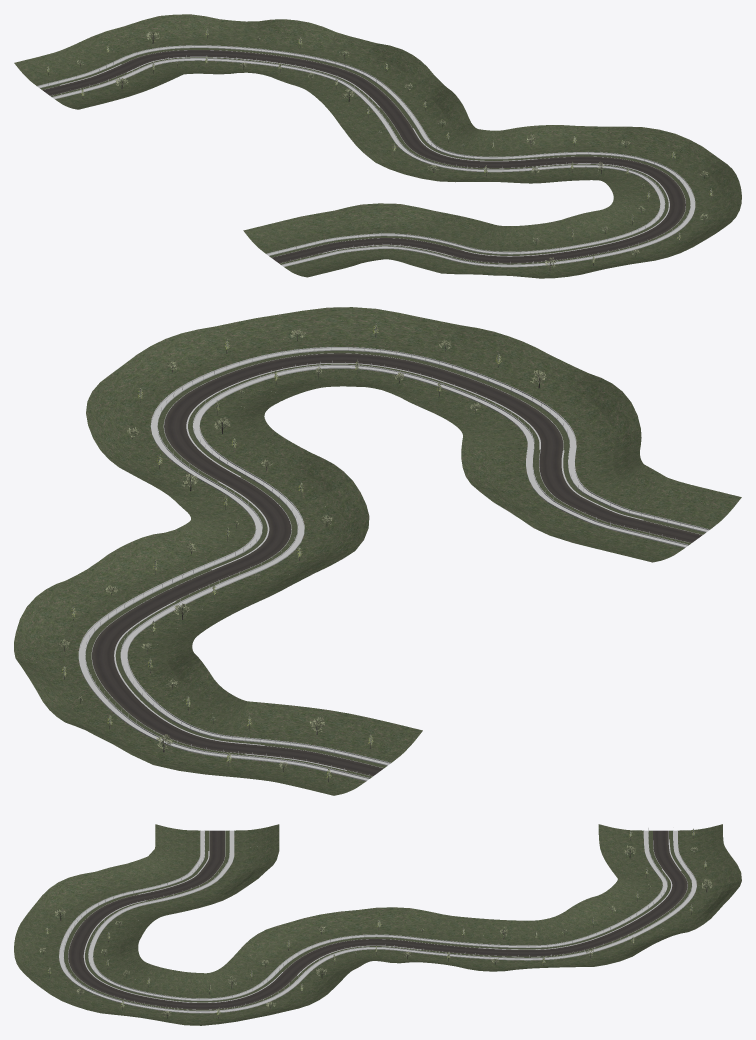
The picture shows the model from 3 angles, top to bottom: view 1: azimuth 30°, elevation 25°; view 2: azimuth 150°, elevation 25°; view 3: azimuth 270°, elevation 25°; orthographic projection. The views are drawn at different scales.
Parts seen in each view (by area): view 1: Grass, Road, Track, Trees, Curbs; view 2: Grass, Road, Track, Trees, Curbs; view 3: Grass, Road, Track, Trees, Curbs.
Part boxes in pixels (<box>): Grass: <box>14,14,741,278</box>; Road: <box>42,50,685,263</box>; Track: <box>37,45,695,267</box>; Trees: <box>47,28,712,270</box>; Curbs: <box>60,57,669,256</box>; Grass: <box>14,307,741,795</box>; Road: <box>92,353,702,776</box>; Track: <box>78,346,709,781</box>; Trees: <box>58,323,546,782</box>; Curbs: <box>114,363,643,770</box>; Grass: <box>14,824,741,1025</box>; Road: <box>68,830,687,1009</box>; Track: <box>59,828,696,1013</box>; Trees: <box>39,828,712,1018</box>; Curbs: <box>84,839,681,1002</box>.
Size of what is drawn, in the model's own units: 54130 by 2420 by 82063.
